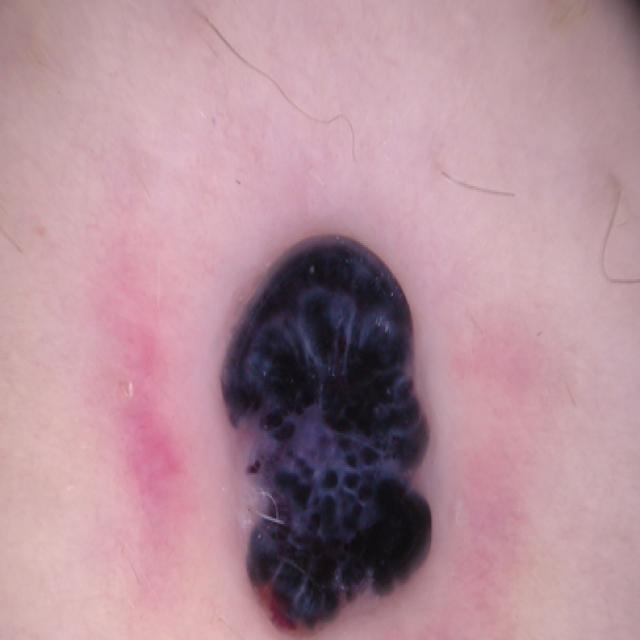Vascular Lesions: (192, 211, 536, 640)
